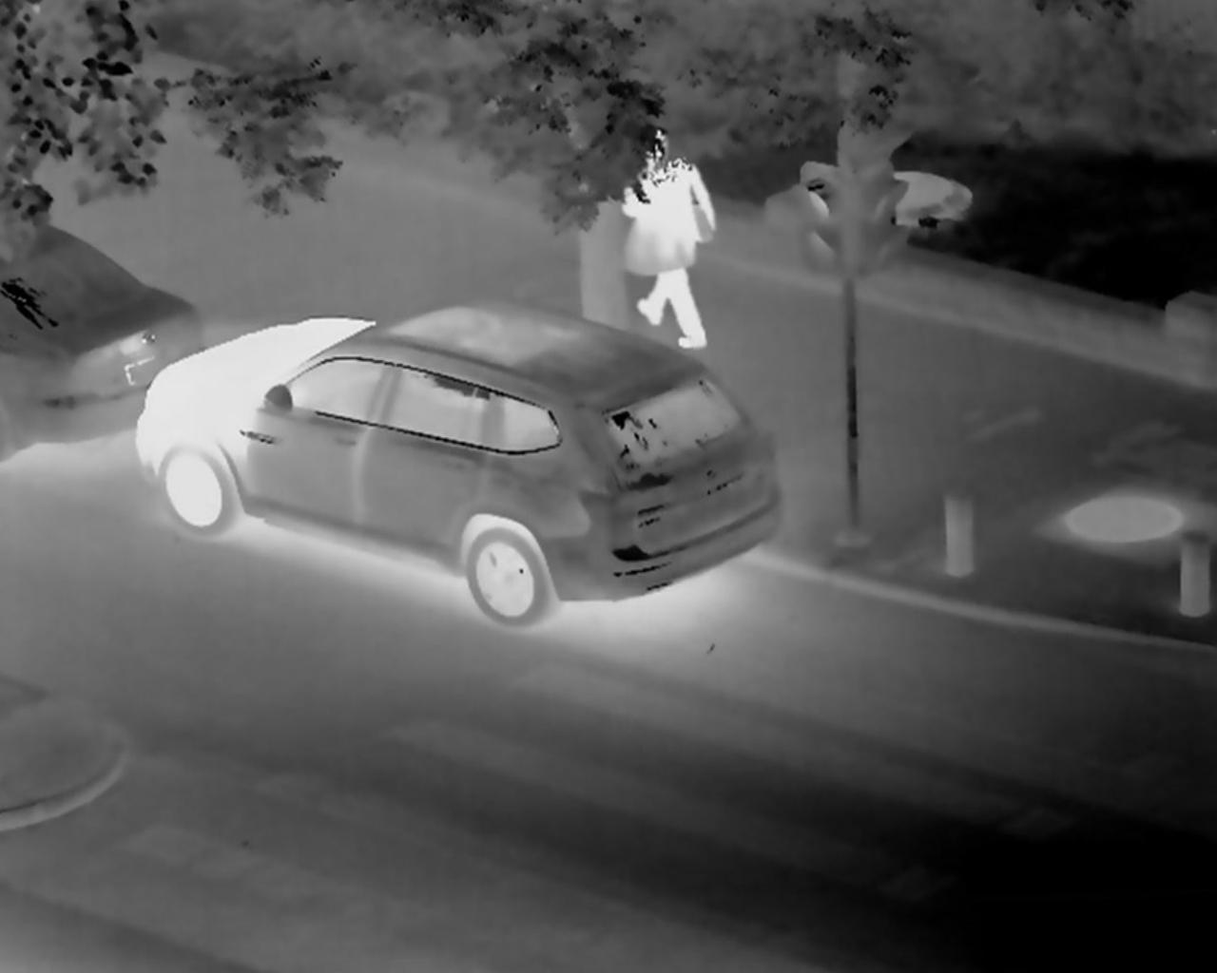person: (623, 161, 741, 370)
